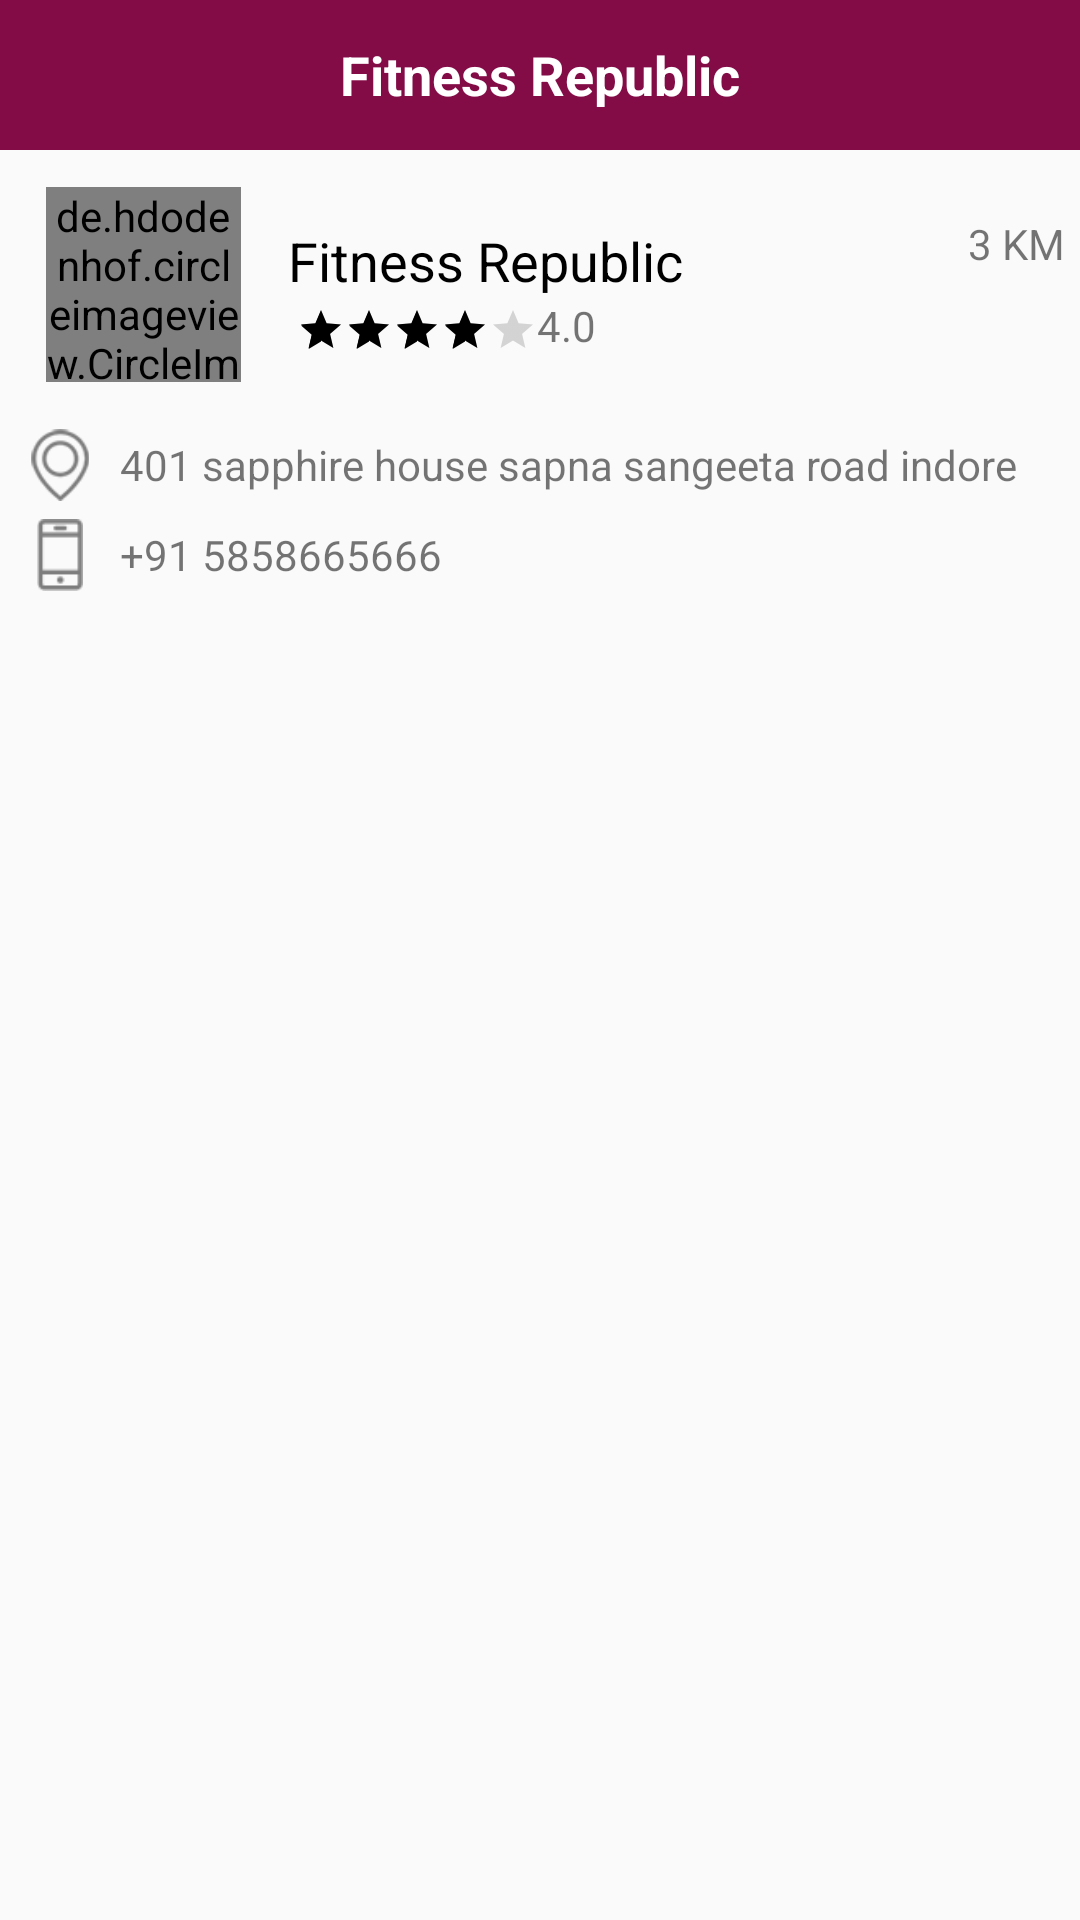

Screen size 1080 x 1920. Icon name, then its center in pixels as point (x, y):
loc: point (60, 465)
mobile: point (60, 555)
